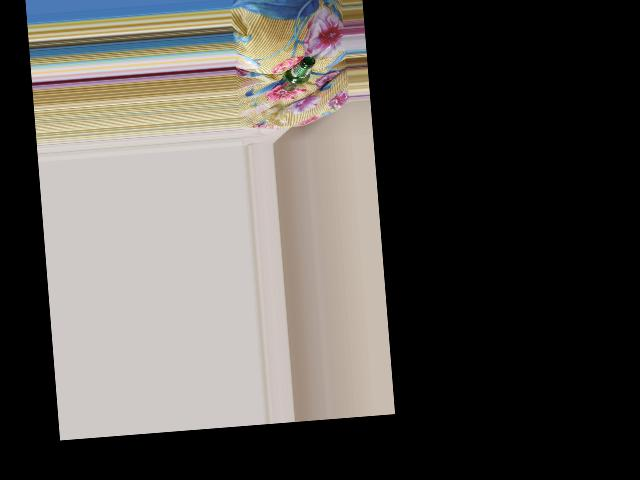beer: (278, 55, 318, 91)
